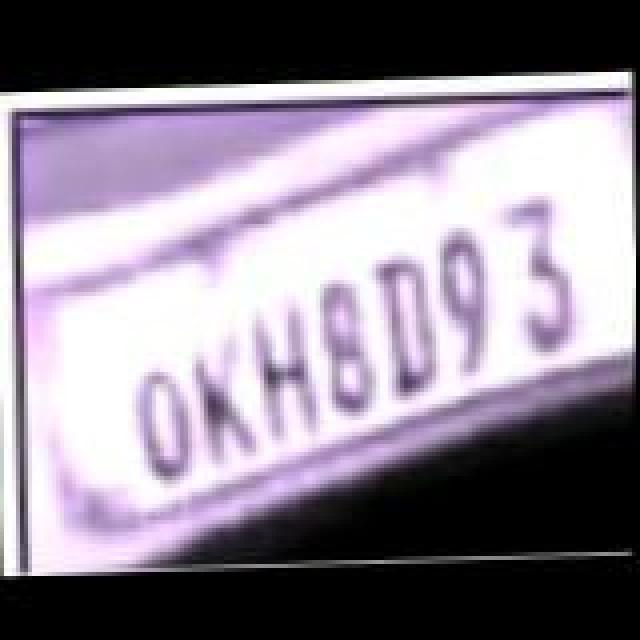3: (494, 184, 590, 352)
8: (304, 266, 392, 418)
9: (422, 220, 514, 376)
D: (360, 242, 456, 398)
H: (240, 294, 332, 446)
K: (182, 326, 270, 466)
O: (124, 360, 204, 484)
